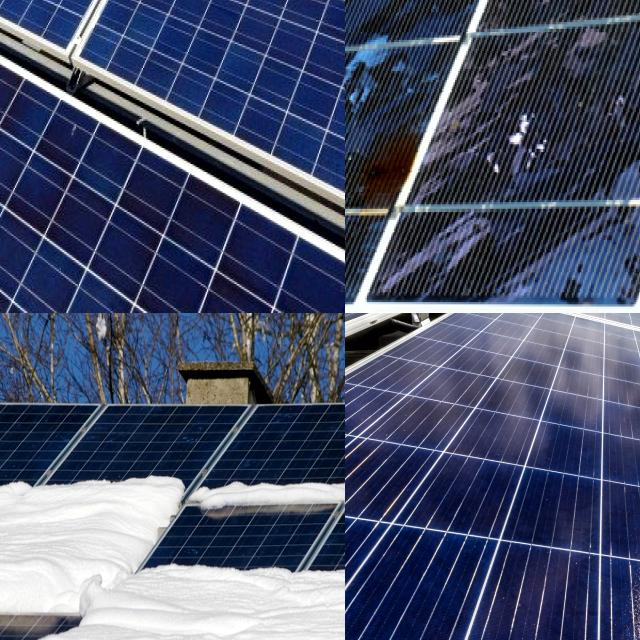crack: (445, 540, 600, 640), (498, 452, 604, 577), (74, 178, 164, 301), (412, 446, 521, 544), (28, 166, 132, 265), (120, 221, 219, 313), (100, 146, 196, 240), (45, 0, 200, 57), (68, 123, 149, 214), (164, 179, 238, 264), (32, 96, 103, 180), (0, 0, 88, 67), (589, 471, 640, 580), (434, 344, 516, 409), (0, 197, 51, 301), (173, 16, 240, 94), (138, 1, 206, 76), (0, 63, 51, 154), (165, 47, 219, 123), (0, 141, 38, 248), (0, 0, 116, 35), (110, 20, 156, 106), (138, 43, 186, 107), (0, 105, 31, 204), (0, 41, 28, 143), (125, 0, 169, 58), (0, 0, 57, 41), (81, 22, 122, 76), (0, 53, 28, 129), (0, 103, 28, 174), (0, 99, 24, 178), (6, 0, 58, 33), (0, 18, 24, 88), (0, 0, 46, 26), (116, 0, 155, 24), (34, 0, 75, 22), (0, 0, 30, 29), (0, 0, 34, 23), (0, 0, 20, 37), (0, 0, 24, 21), (0, 0, 19, 19), (114, 0, 133, 9), (122, 0, 139, 10)
panel: (0, 448, 180, 623), (189, 540, 345, 640), (191, 455, 345, 526)
shadow: (345, 112, 442, 221)
